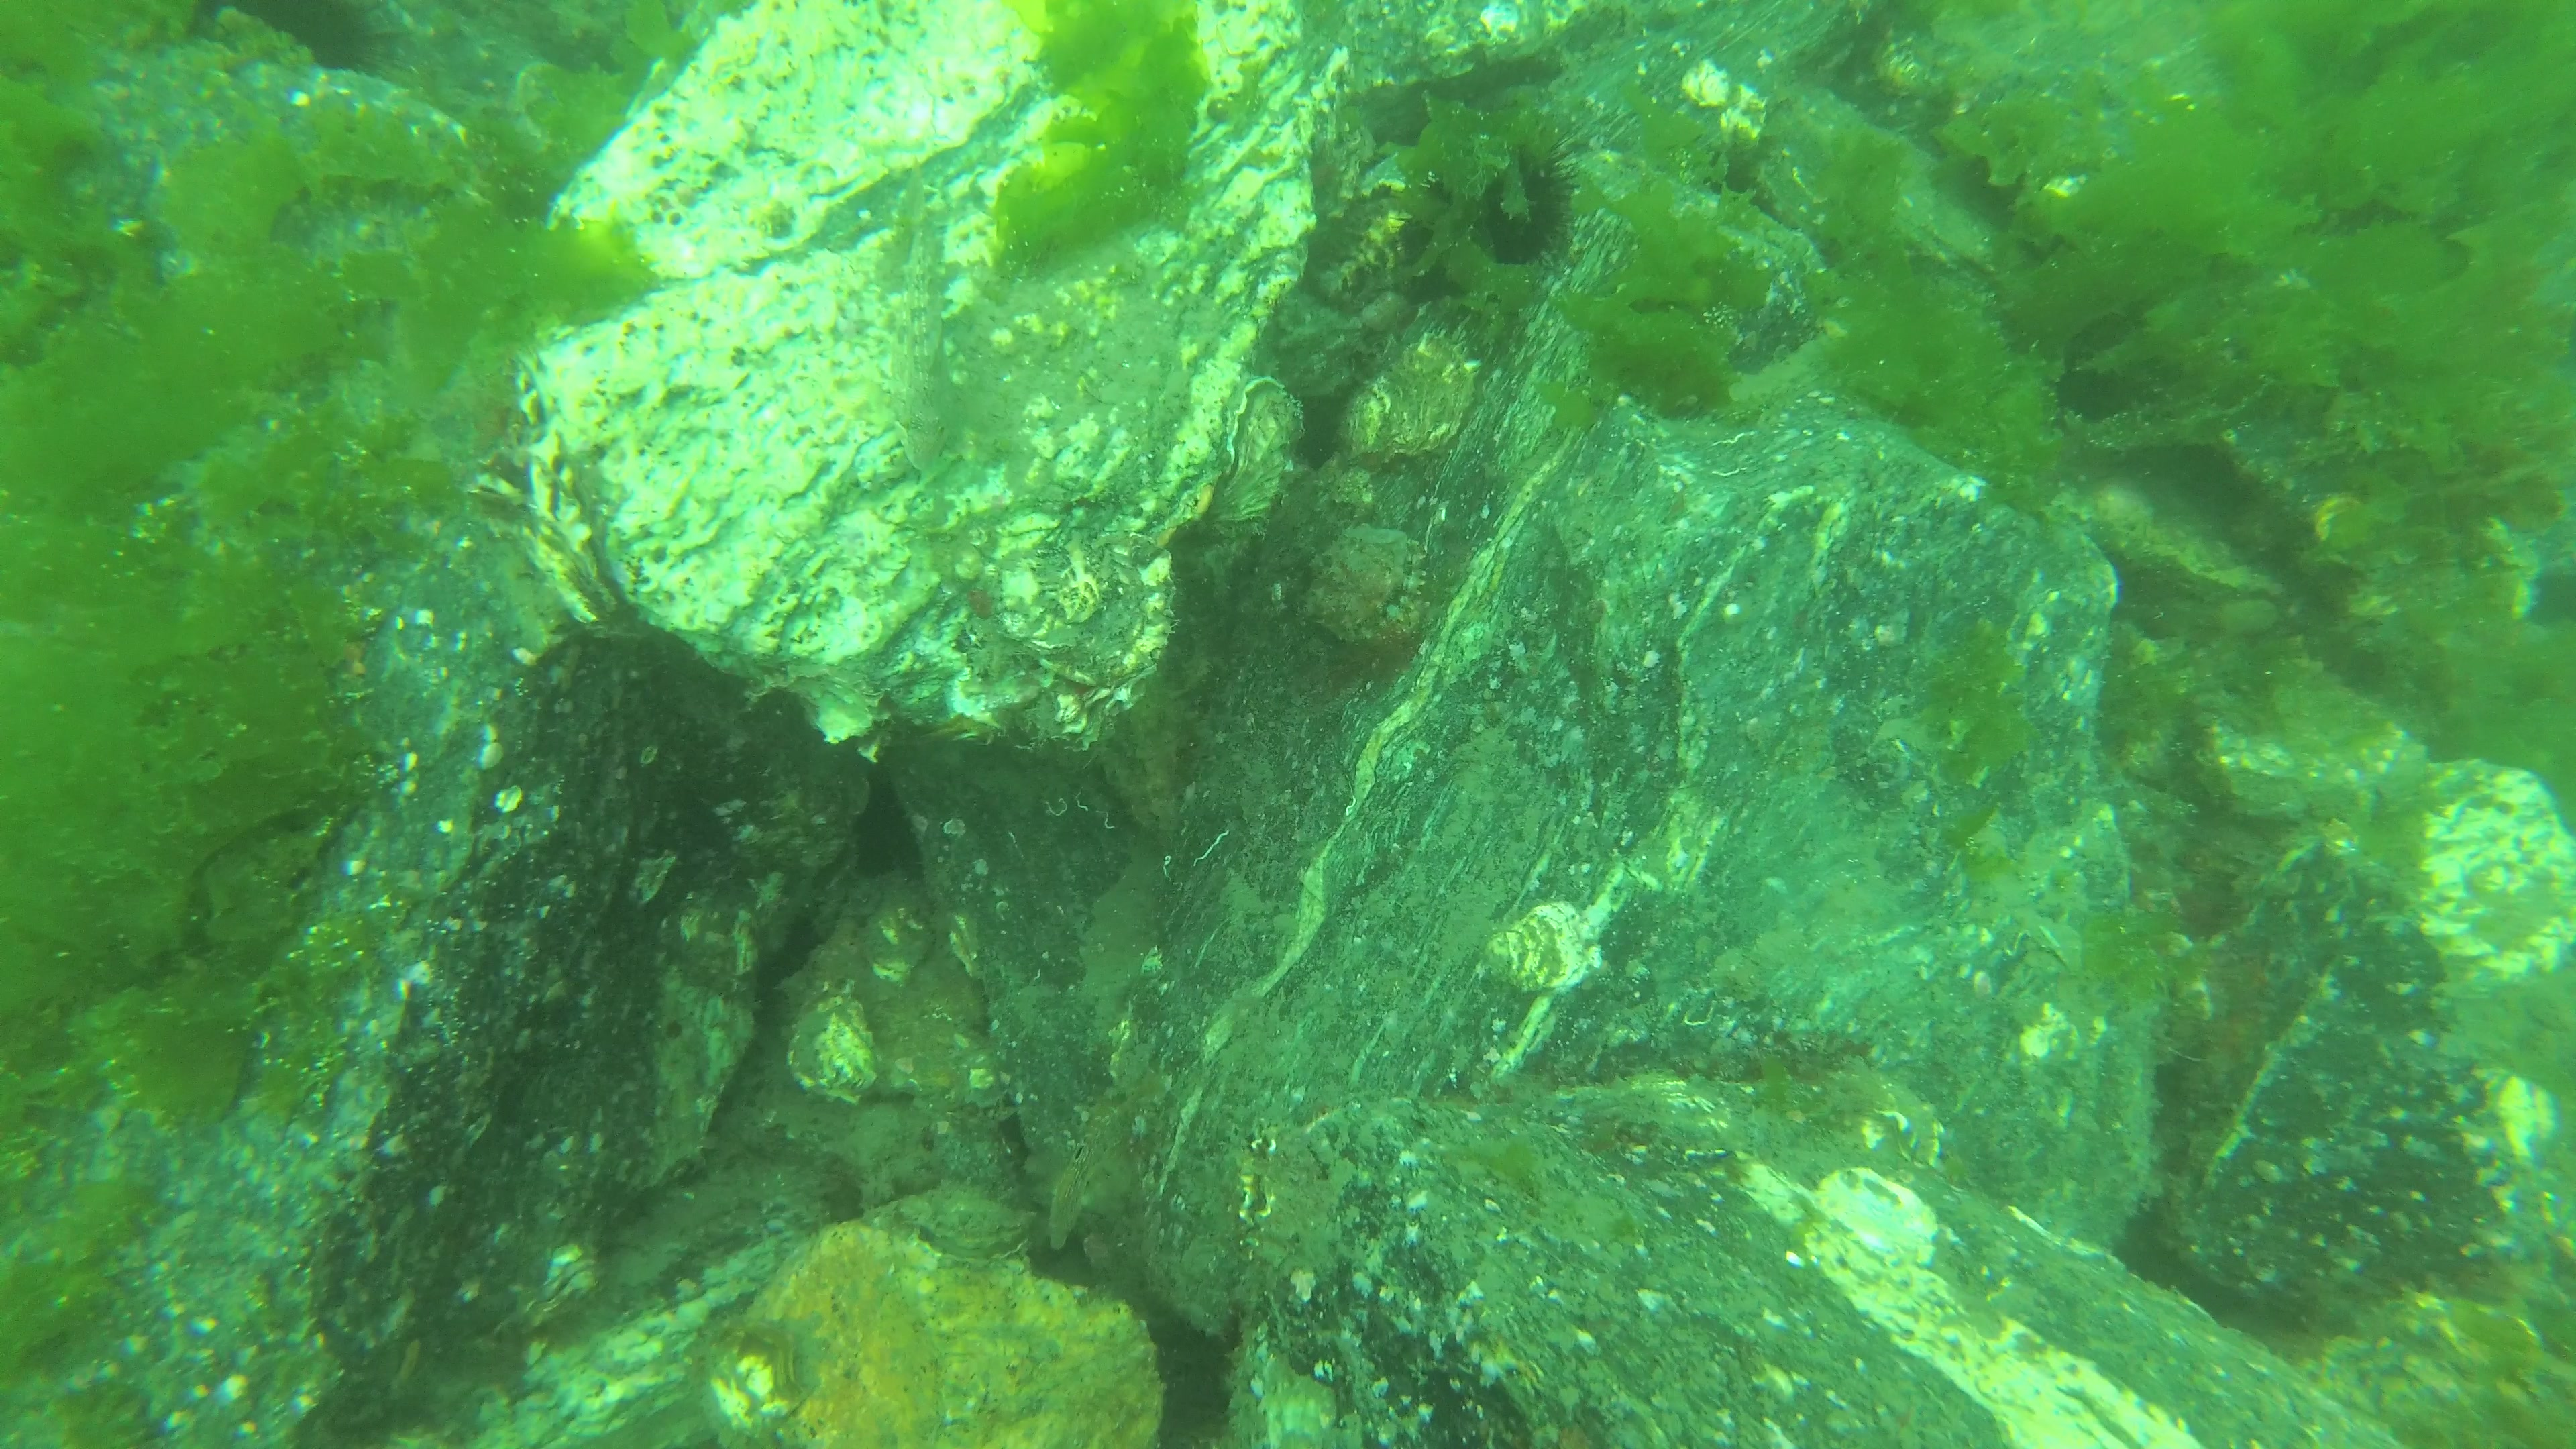echinus: (1394, 150, 1576, 294)
